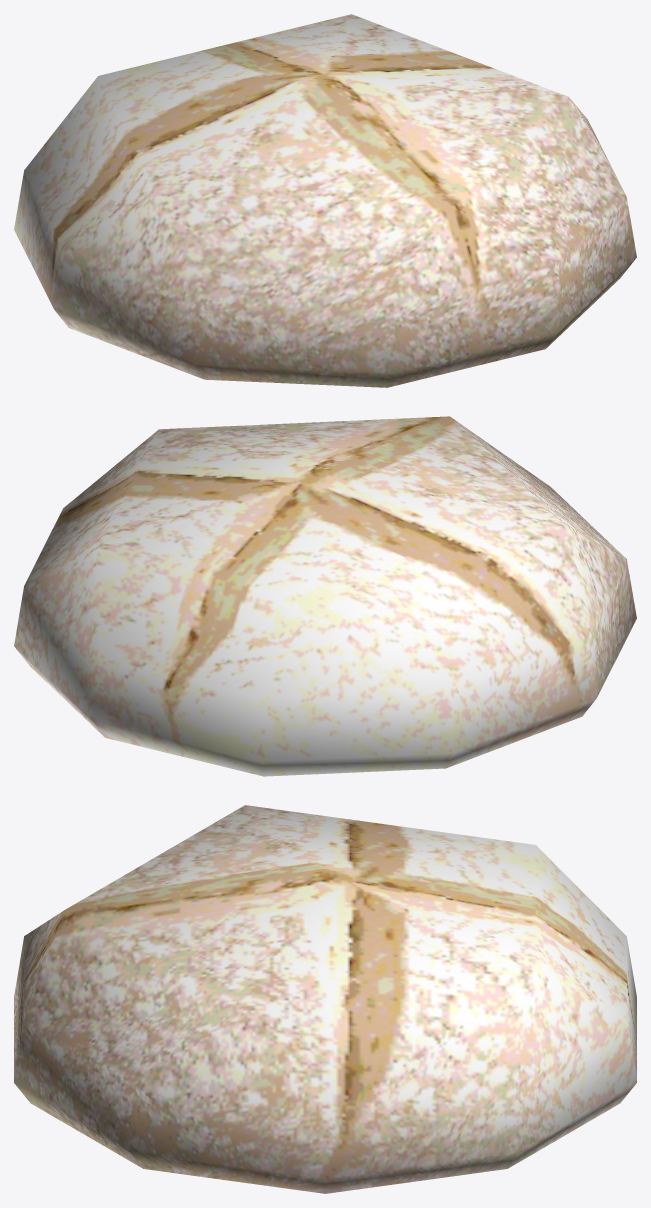
File: VFX_Dough.fbx
The picture shows the model from 3 angles, top to bottom: view 1: azimuth 30°, elevation 25°; view 2: azimuth 150°, elevation 25°; view 3: azimuth 270°, elevation 25°; orthographic projection. The views are drawn at different scales.
Visible parts, largest first — view 1: Dough; view 2: Dough; view 3: Dough.
Part boxes in pixels (box(x1,y1,x2,y2)): Dough: box(14, 14, 636, 387); Dough: box(14, 416, 636, 776); Dough: box(14, 805, 636, 1193).
Size of the model in its own units: 0.179 by 0.0577 by 0.1703.
